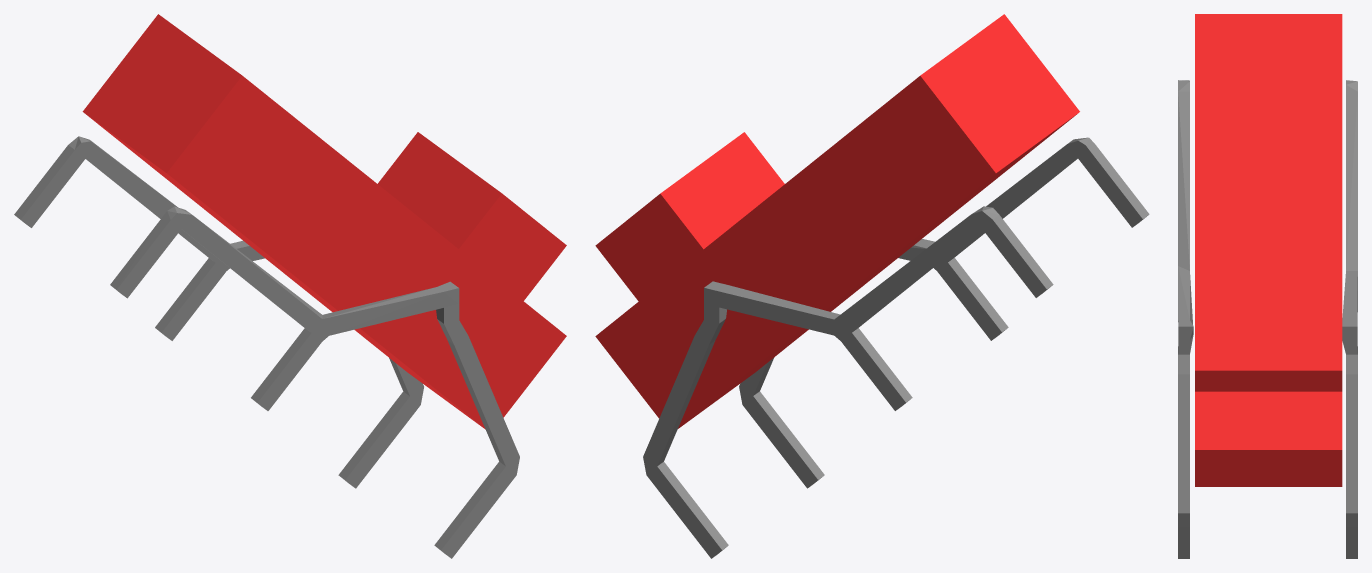
3 renders of one model, left to right at view 1: azimuth 30°, elevation 25°; view 2: azimuth 150°, elevation 25°; view 3: azimuth 270°, elevation 25°, orthographic. The views are drawn at different scales.
Parts seen in each view (by area): view 1: tmp_export_Cube.011; view 2: tmp_export_Cube.011; view 3: tmp_export_Cube.011.
Boxes of the visible parts, box(x1,y1,x2,y2) form: tmp_export_Cube.011: box(14, 14, 566, 558); tmp_export_Cube.011: box(595, 14, 1149, 558); tmp_export_Cube.011: box(1178, 14, 1357, 558).
Size of the model in its own units: 60.13 by 23.24 by 65.59.
